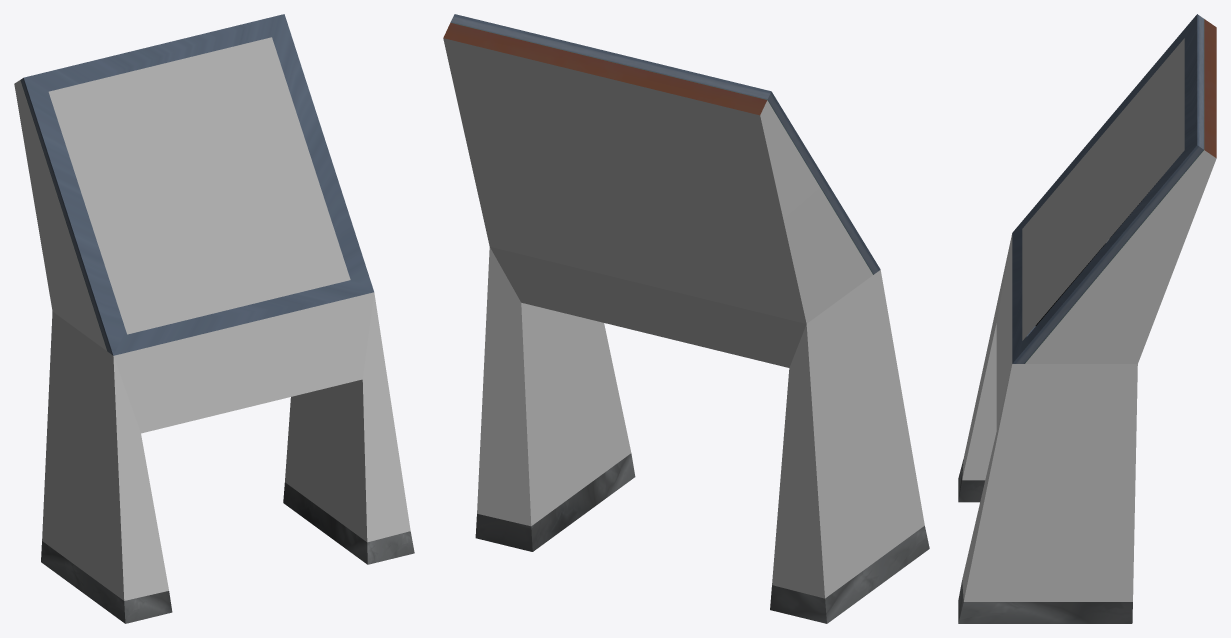
The model's file is EntranceBoard_Art.fbx.
3 renders of one model, left to right at view 1: azimuth 30°, elevation 25°; view 2: azimuth 150°, elevation 25°; view 3: azimuth 270°, elevation 25°, orthographic. The views are drawn at different scales.
Visible parts, largest first — view 1: Oktoberfest_EntranceBoard; view 2: Oktoberfest_EntranceBoard; view 3: Oktoberfest_EntranceBoard.
Boxes of the visible parts, <box> form: Oktoberfest_EntranceBoard: <box>14,14,414,623</box>; Oktoberfest_EntranceBoard: <box>443,14,929,623</box>; Oktoberfest_EntranceBoard: <box>958,14,1216,623</box>.
Bounding box in the file's own units: 119 × 180 × 89.37.
